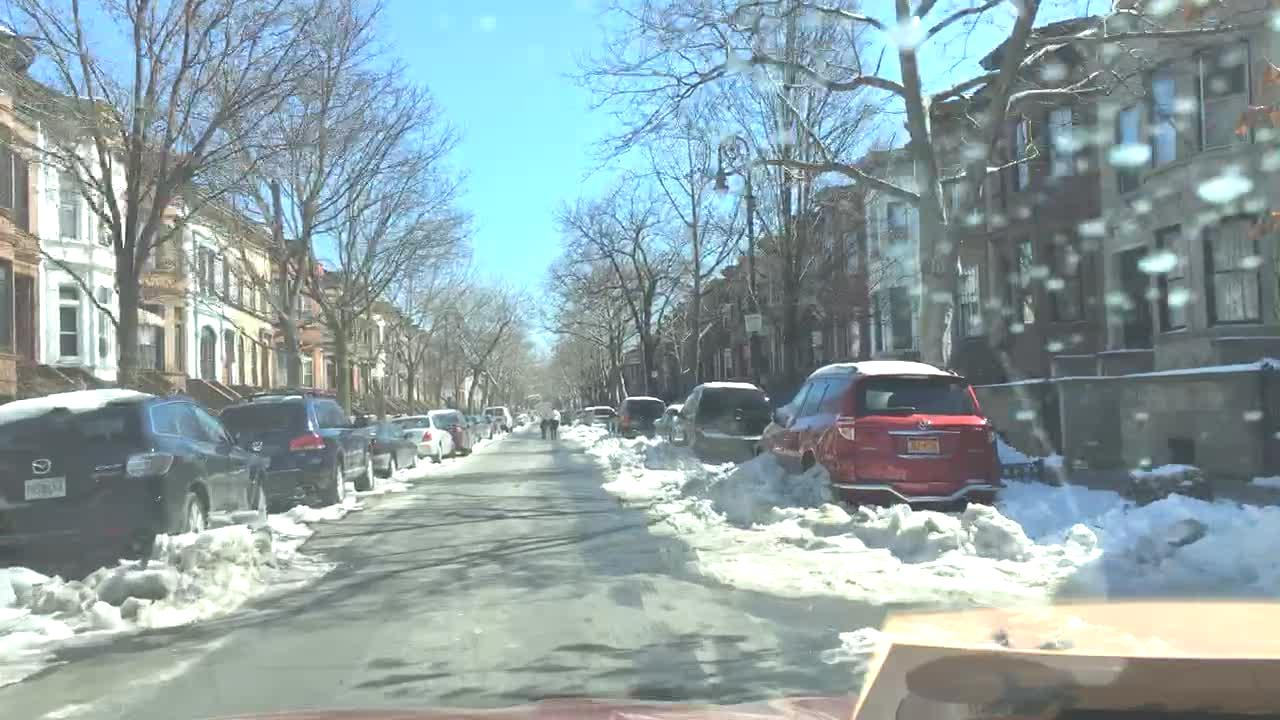Mazda: (22, 451, 63, 479)
